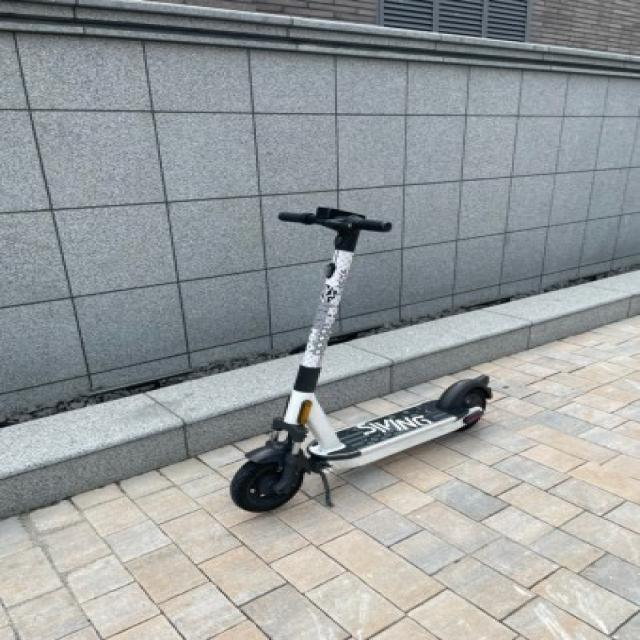curb: (320, 272, 638, 410)
kick-board: (230, 208, 493, 511)
sidewalk: (2, 318, 638, 640)
